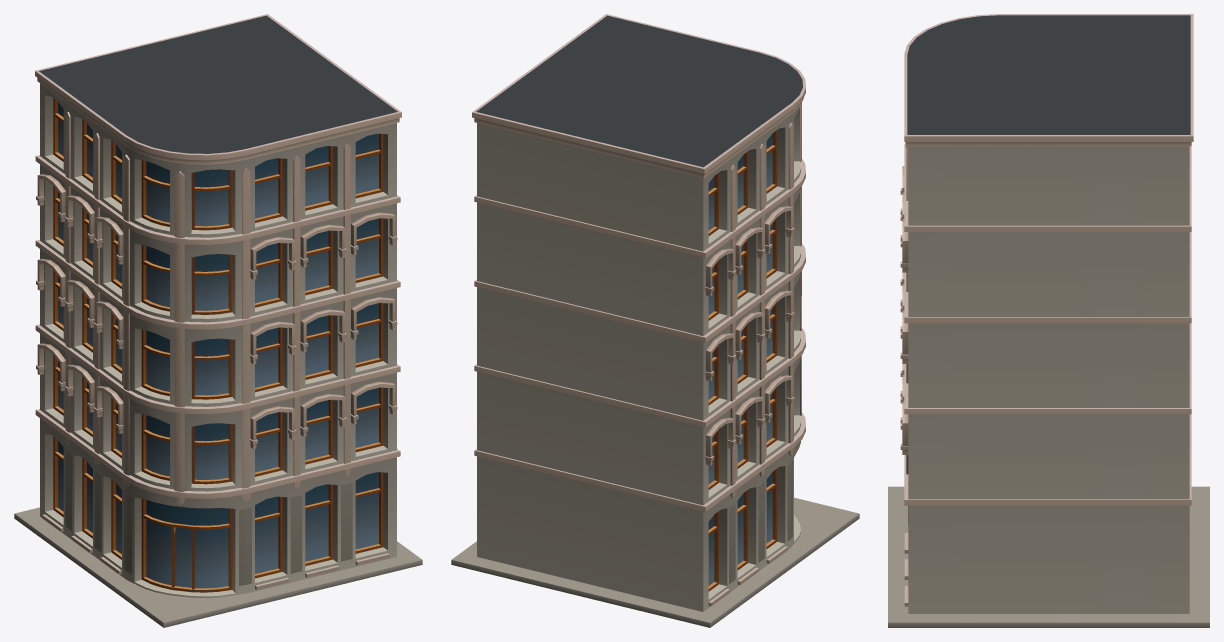
The model's file is Building_14A.fbx.
3 renders of one model, left to right at view 1: azimuth 30°, elevation 25°; view 2: azimuth 150°, elevation 25°; view 3: azimuth 270°, elevation 25°, orthographic. The views are drawn at different scales.
Visible parts, largest first — view 1: Building_14A; view 2: Building_14A; view 3: Building_14A.
Part boxes in pixels (bbox=[...]): Building_14A: bbox=[14, 14, 422, 627]; Building_14A: bbox=[451, 14, 859, 627]; Building_14A: bbox=[888, 14, 1209, 627].
Size of the model in its own units: 488 by 811 by 488.
